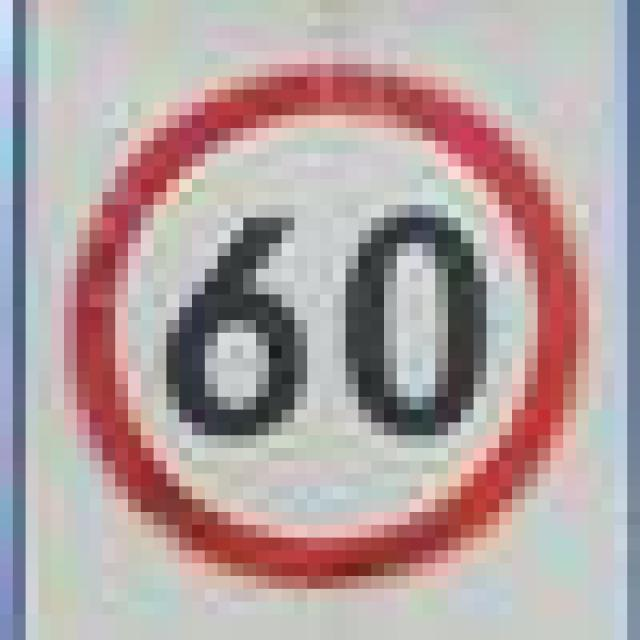speed_limit_40: (51, 51, 576, 576)
